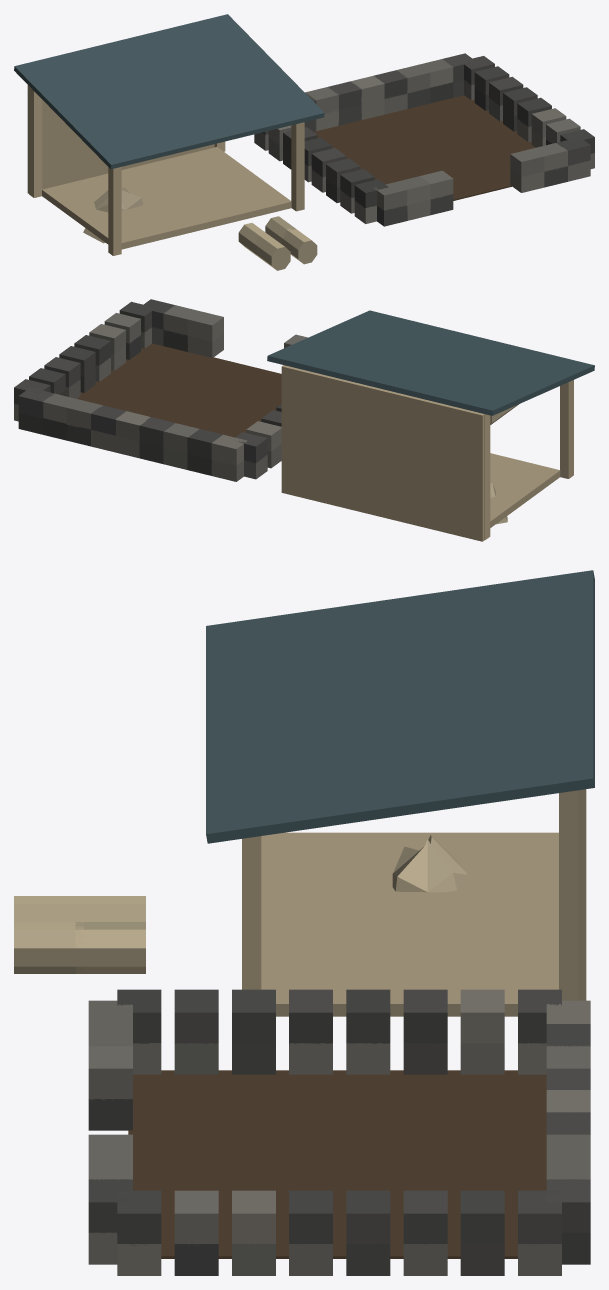
Rendered from walk_veiled_fold.glb.
3 views of the same model, one above another, from view 1: azimuth 30°, elevation 25°; view 2: azimuth 150°, elevation 25°; view 3: azimuth 270°, elevation 25° (orthographic). The views are drawn at different scales.
Visible parts, largest first — view 1: walk_veiled_fold, walk_veiled_fold_roof; view 2: walk_veiled_fold, walk_veiled_fold_roof; view 3: walk_veiled_fold, walk_veiled_fold_roof.
Part boxes in pixels (x1,y1,x2,y2): walk_veiled_fold: (27, 53, 594, 270); walk_veiled_fold_roof: (14, 14, 324, 169); walk_veiled_fold: (14, 299, 573, 541); walk_veiled_fold_roof: (267, 310, 594, 415); walk_veiled_fold: (14, 789, 590, 1275); walk_veiled_fold_roof: (206, 570, 594, 843).
Size of what is drawn, in the model's own units: 12.11 by 3.72 by 6.6.
1 material, 1 textured.
